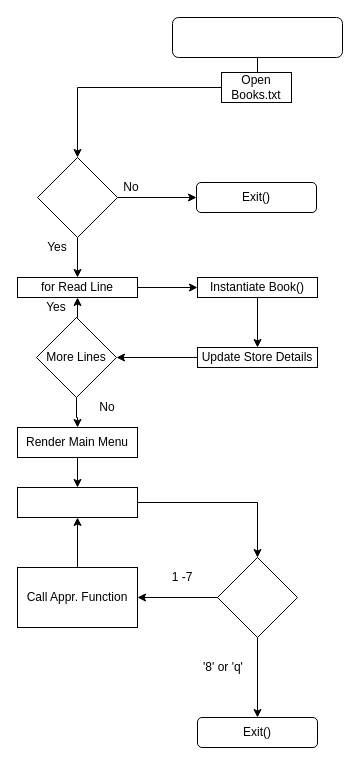
The diagram is 360 pixels wide and 765 high, and some of its shapes have lost their labels. The box of each missing label's shape, as (x1, y1, x2, y2) in pixels:
Exists: (36, 156, 118, 238)
Instantiate Store class: (172, 16, 342, 58)
Listen On User Input: (16, 486, 138, 518)
User input: (216, 556, 298, 638)
